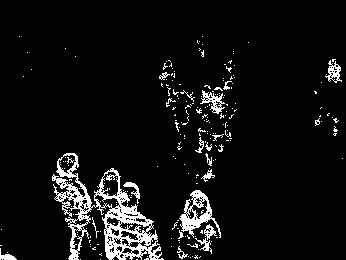person: (51, 151, 101, 260), (103, 180, 163, 260), (170, 190, 222, 260), (195, 86, 231, 176), (93, 165, 126, 223)
